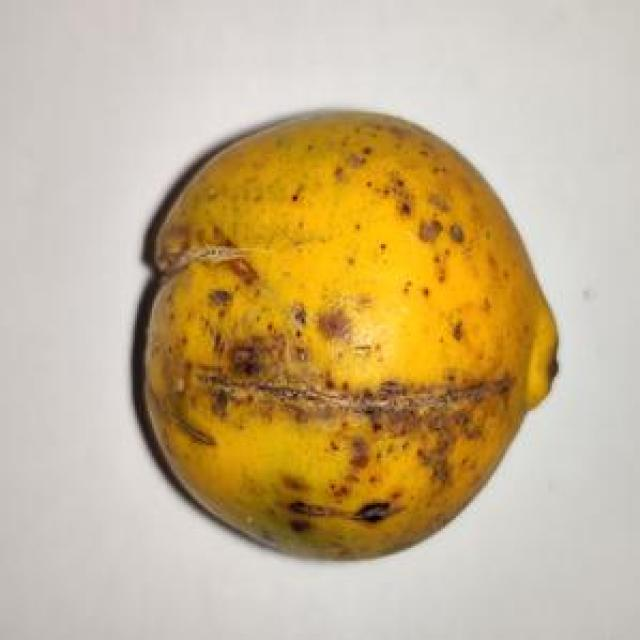damaged: (143, 113, 554, 557)
